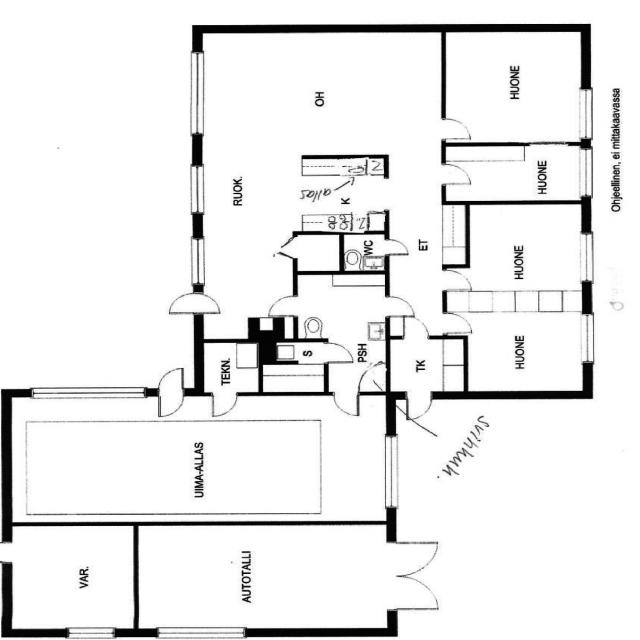door: (387, 576, 438, 610), (387, 543, 438, 576), (405, 391, 431, 420), (159, 368, 183, 396), (159, 388, 183, 416), (441, 119, 472, 140), (193, 293, 227, 312), (170, 293, 203, 312), (212, 391, 237, 416), (386, 296, 415, 317), (268, 296, 297, 316), (443, 270, 472, 290), (333, 391, 357, 415), (443, 313, 471, 333), (404, 316, 428, 339), (441, 164, 470, 183), (324, 343, 351, 362), (386, 239, 410, 255), (0, 541, 11, 562), (280, 237, 297, 248), (280, 248, 297, 258)
